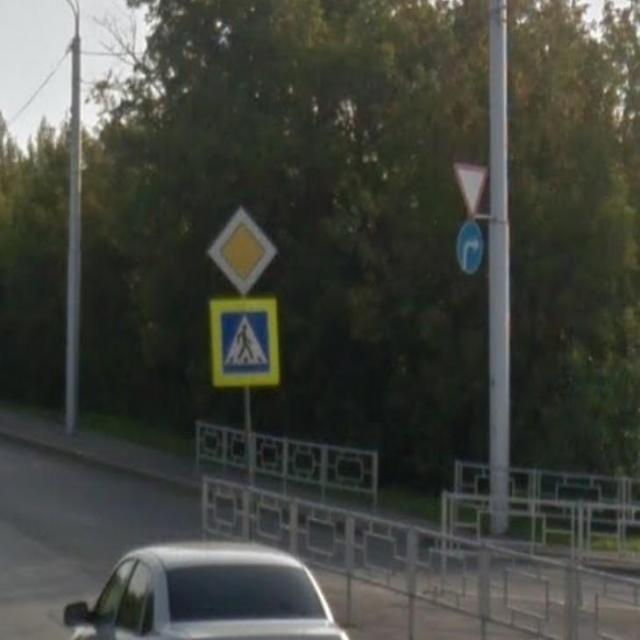traffic_sign: (200, 198, 285, 300), (208, 298, 278, 390), (449, 157, 493, 220)
